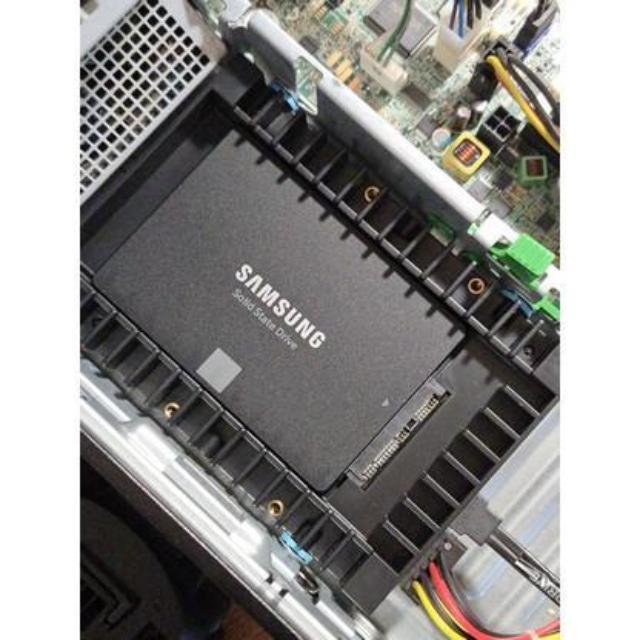DISK: (90, 125, 473, 500)
